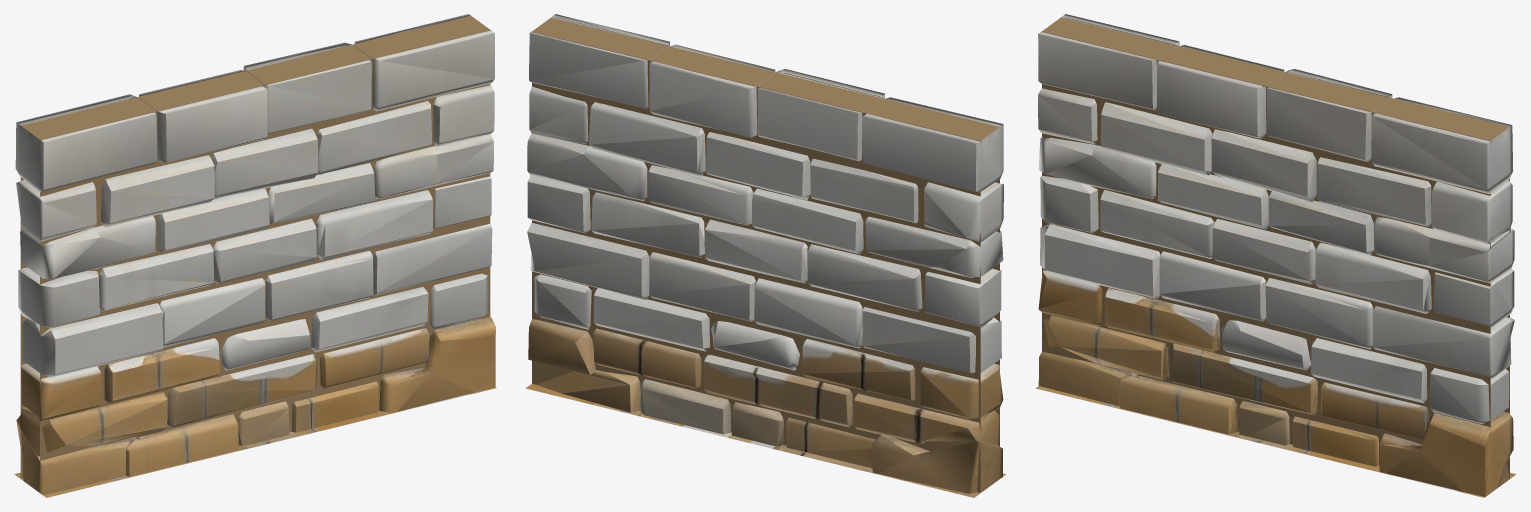
File: wall-plaster-half.glb
3 views of the same model, side by side, from view 1: azimuth 30°, elevation 25°; view 2: azimuth 150°, elevation 25°; view 3: azimuth 330°, elevation 25° (orthographic).
Size of the model in its own units: 2 by 1.5 by 0.25.
1 material, 1 textured.
